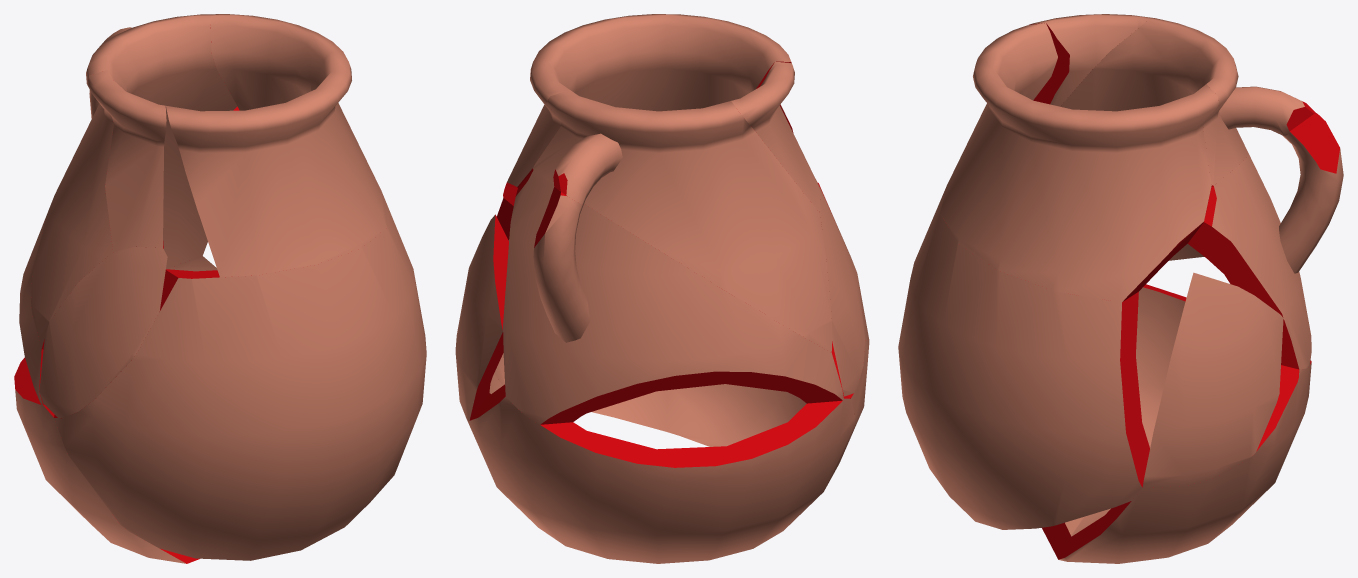
Rendered from ClayPot_05_destroyed 1.fbx.
3 views of the same model, side by side, from view 1: azimuth 30°, elevation 25°; view 2: azimuth 150°, elevation 25°; view 3: azimuth 270°, elevation 25° (orthographic).
Visible parts, largest first — view 1: ClayPot_05_cell.009, ClayPot_05_cell.007, ClayPot_05_cell.011, ClayPot_05_cell.003, ClayPot_05_cell.004, ClayPot_05_cell.006, ClayPot_05_cell.002; view 2: ClayPot_05_cell.002, ClayPot_05_cell.006, ClayPot_05_cell.011, ClayPot_05_cell.007, ClayPot_05_cell.009, ClayPot_05_cell.005, ClayPot_05_cell.003, ClayPot_05_cell.004; view 3: ClayPot_05_cell.009, ClayPot_05_cell.007, ClayPot_05_cell.005, ClayPot_05_cell.006, ClayPot_05_cell.002, ClayPot_05_cell.011, ClayPot_05_cell.004.
Boxes of the visible parts, x1,y1,x2,y2 form: ClayPot_05_cell.009: (54,207,426,560); ClayPot_05_cell.007: (166,14,387,277); ClayPot_05_cell.011: (31,14,237,349); ClayPot_05_cell.003: (39,246,167,418); ClayPot_05_cell.004: (87,70,166,251); ClayPot_05_cell.006: (14,256,217,563); ClayPot_05_cell.002: (19,46,239,404); ClayPot_05_cell.002: (503,170,843,424); ClayPot_05_cell.006: (467,373,855,563); ClayPot_05_cell.011: (532,90,831,352); ClayPot_05_cell.007: (503,14,793,205); ClayPot_05_cell.009: (494,183,869,463); ClayPot_05_cell.005: (455,214,508,420); ClayPot_05_cell.003: (815,178,864,396); ClayPot_05_cell.004: (731,61,820,212); ClayPot_05_cell.009: (898,187,1149,529); ClayPot_05_cell.007: (940,23,1218,302); ClayPot_05_cell.005: (1142,272,1283,487); ClayPot_05_cell.006: (1042,284,1311,563); ClayPot_05_cell.002: (1169,112,1343,369); ClayPot_05_cell.011: (1060,18,1315,187); ClayPot_05_cell.004: (1029,14,1156,106).
Size of the model in its own units: 36.73 by 43.45 by 39.44.
